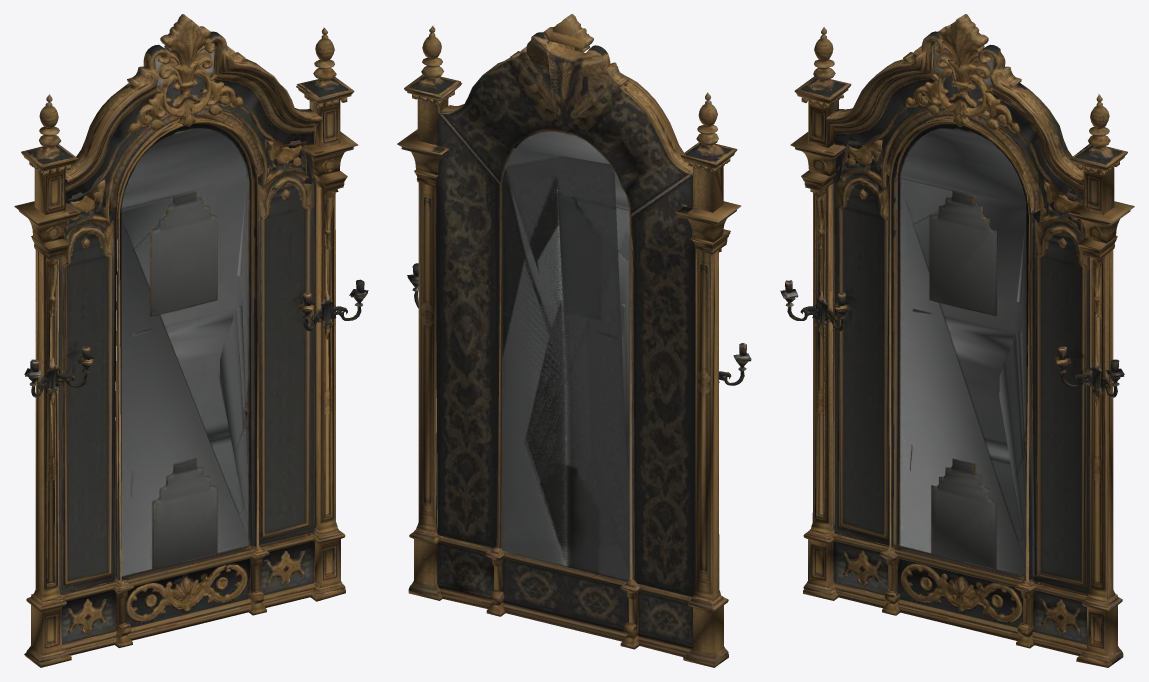
File: frame.glb
3 renders of one model, left to right at view 1: azimuth 30°, elevation 25°; view 2: azimuth 150°, elevation 25°; view 3: azimuth 330°, elevation 25°, orthographic.
Parts seen in each view (by area): view 1: midway-fit; view 2: midway-fit; view 3: midway-fit.
Part boxes in pixels (box(x1,y1,x2,y2)): midway-fit: box(14, 14, 368, 667); midway-fit: box(397, 14, 751, 667); midway-fit: box(780, 14, 1134, 667).
Size of the model in its own units: 0.5922 by 1 by 0.0822.
1 material, 1 textured.
